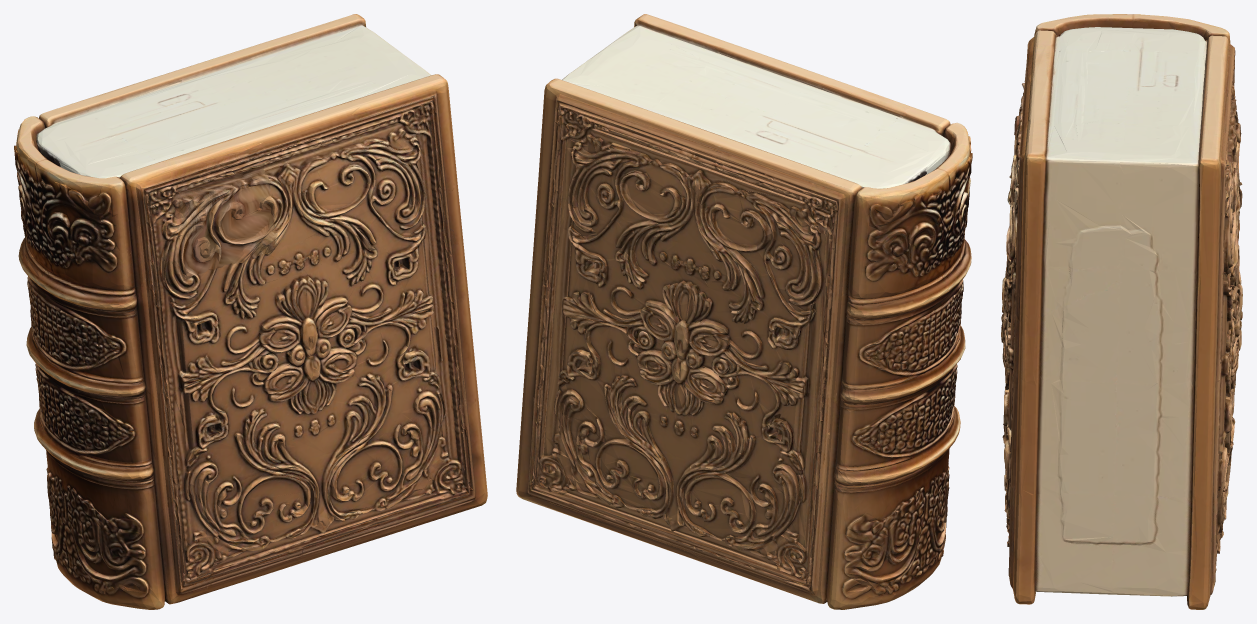
The model's file is tome-mine.glb.
The picture shows the model from 3 angles, left to right: view 1: azimuth 30°, elevation 25°; view 2: azimuth 150°, elevation 25°; view 3: azimuth 270°, elevation 25°; orthographic projection.
Visible parts, largest first — view 1: tmpua644r1z.obj; view 2: tmpua644r1z.obj; view 3: tmpua644r1z.obj.
Boxes of the visible parts, bbox=[...] form: tmpua644r1z.obj: bbox=[14, 14, 487, 609]; tmpua644r1z.obj: bbox=[516, 14, 972, 609]; tmpua644r1z.obj: bbox=[1001, 14, 1242, 609].
Bounding box in the file's own units: 1.39 × 1.54 × 0.7187.
1 material, 1 textured.
